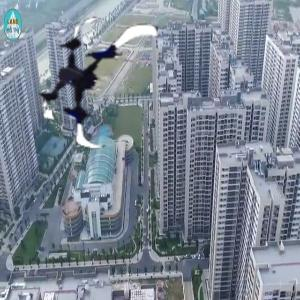drone: (22, 15, 161, 154)
